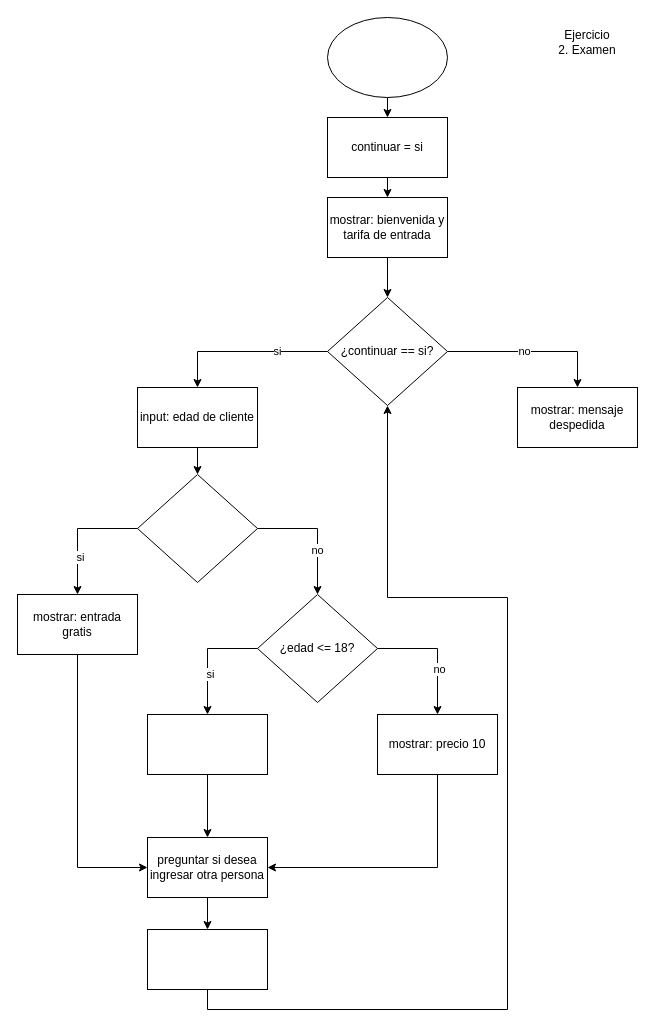
The diagram is 655 pixels wide and 1035 high, and some of its shapes have lost their labels. Here are the shapes that lost their labels. From the top down, the box of each, then its label:
(326, 16, 448, 98): inicio
(136, 474, 258, 582): ¿edad < 5?
(146, 714, 268, 774): mostrar: precio 5
(146, 928, 268, 990): convertir respuesta a minuscula
